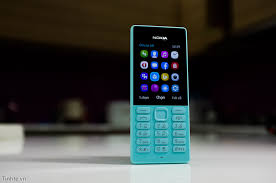nokia: (127, 19, 192, 169)
